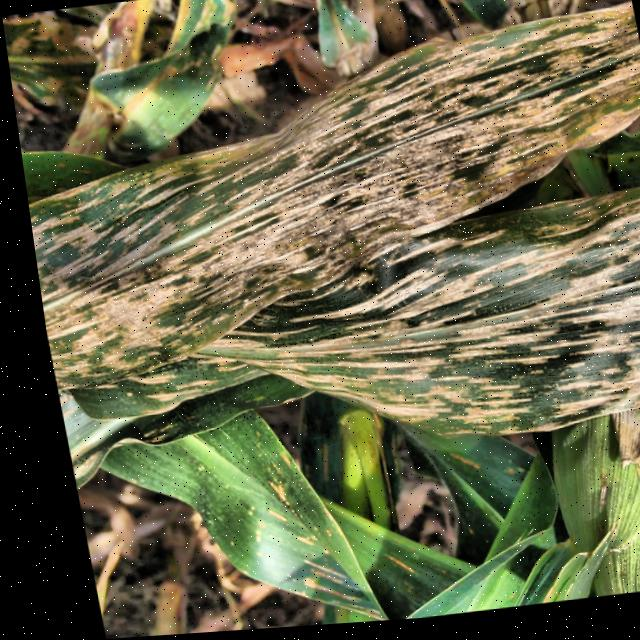blight: (30, 0, 640, 394)
